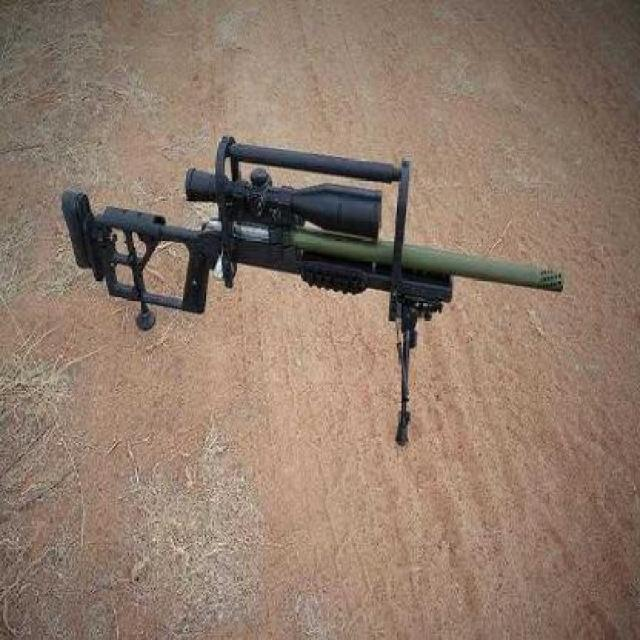weapon: (56, 133, 565, 453)
